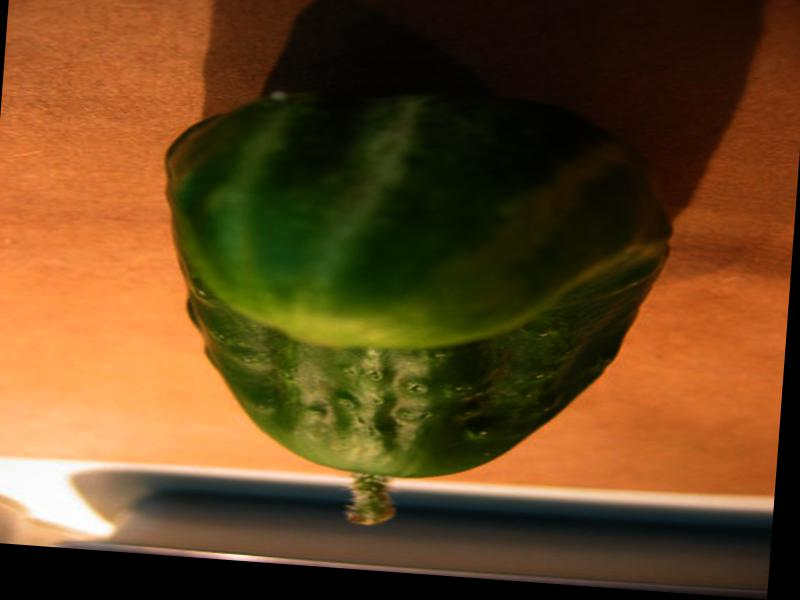Cucumber: (135, 71, 676, 546)
